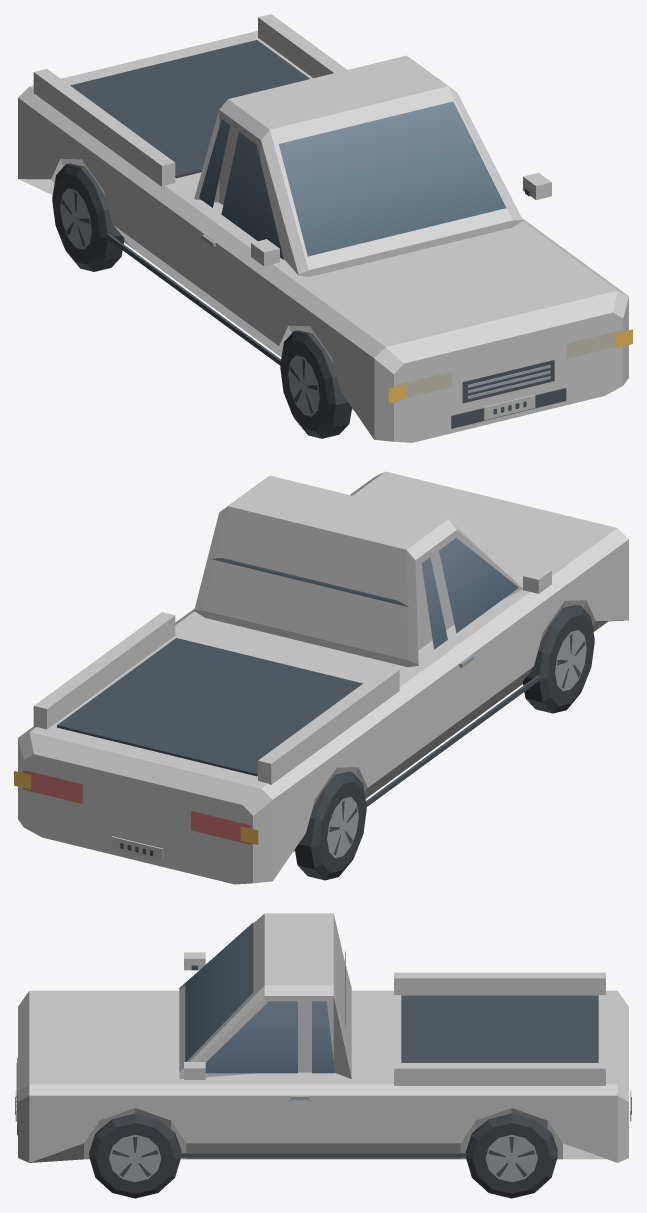
File: pickup.glb
3 views of the same model, one above another, from view 1: azimuth 30°, elevation 25°; view 2: azimuth 150°, elevation 25°; view 3: azimuth 270°, elevation 25° (orthographic). The views are drawn at different scales.
Visible parts, largest first — view 1: body, wheel_1, wheel_3; view 2: body, wheel_3, wheel_1, brake_0, brake_1; view 3: body, wheel_0, wheel_2.
Boxes of the visible parts, left/top/right/bottom form: body: left=18, top=14, right=628, bottom=442; wheel_1: left=280, top=330, right=351, bottom=438; wheel_3: left=52, top=163, right=124, bottom=271; body: left=18, top=471, right=628, bottom=884; wheel_3: left=295, top=771, right=366, bottom=880; wheel_1: left=522, top=605, right=594, bottom=713; brake_0: left=23, top=770, right=82, bottom=803; brake_1: left=191, top=811, right=250, bottom=844; body: left=15, top=913, right=631, bottom=1162; wheel_0: left=89, top=1113, right=181, bottom=1198; wheel_2: left=465, top=1113, right=557, bottom=1198.
Size of the model in its own units: 2.15 by 1.7 by 4.84.
